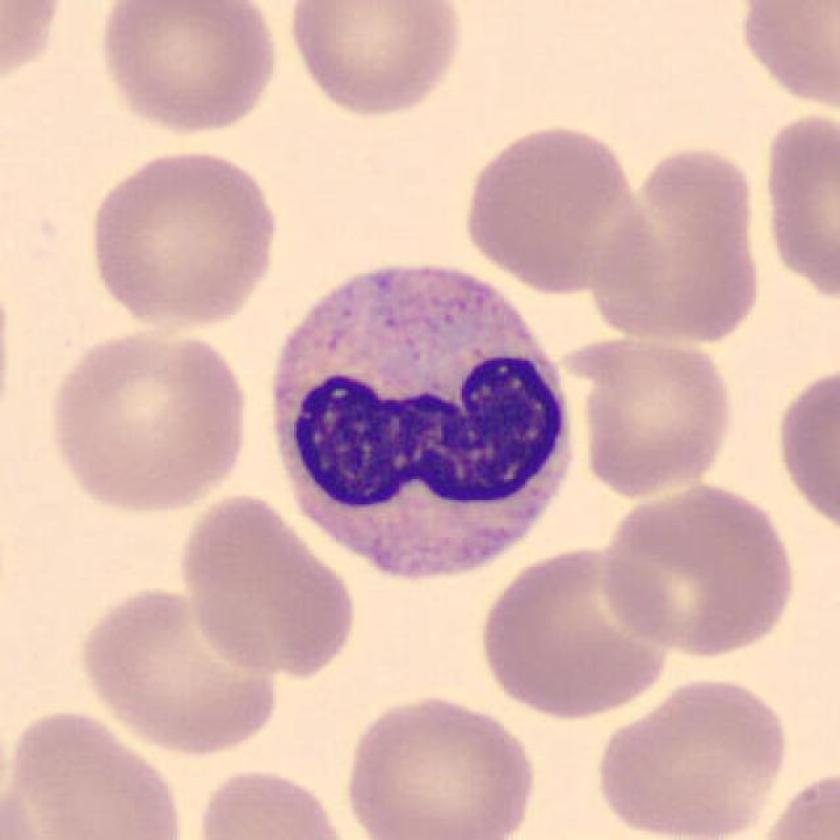neutrophil: (277, 266, 569, 576)
